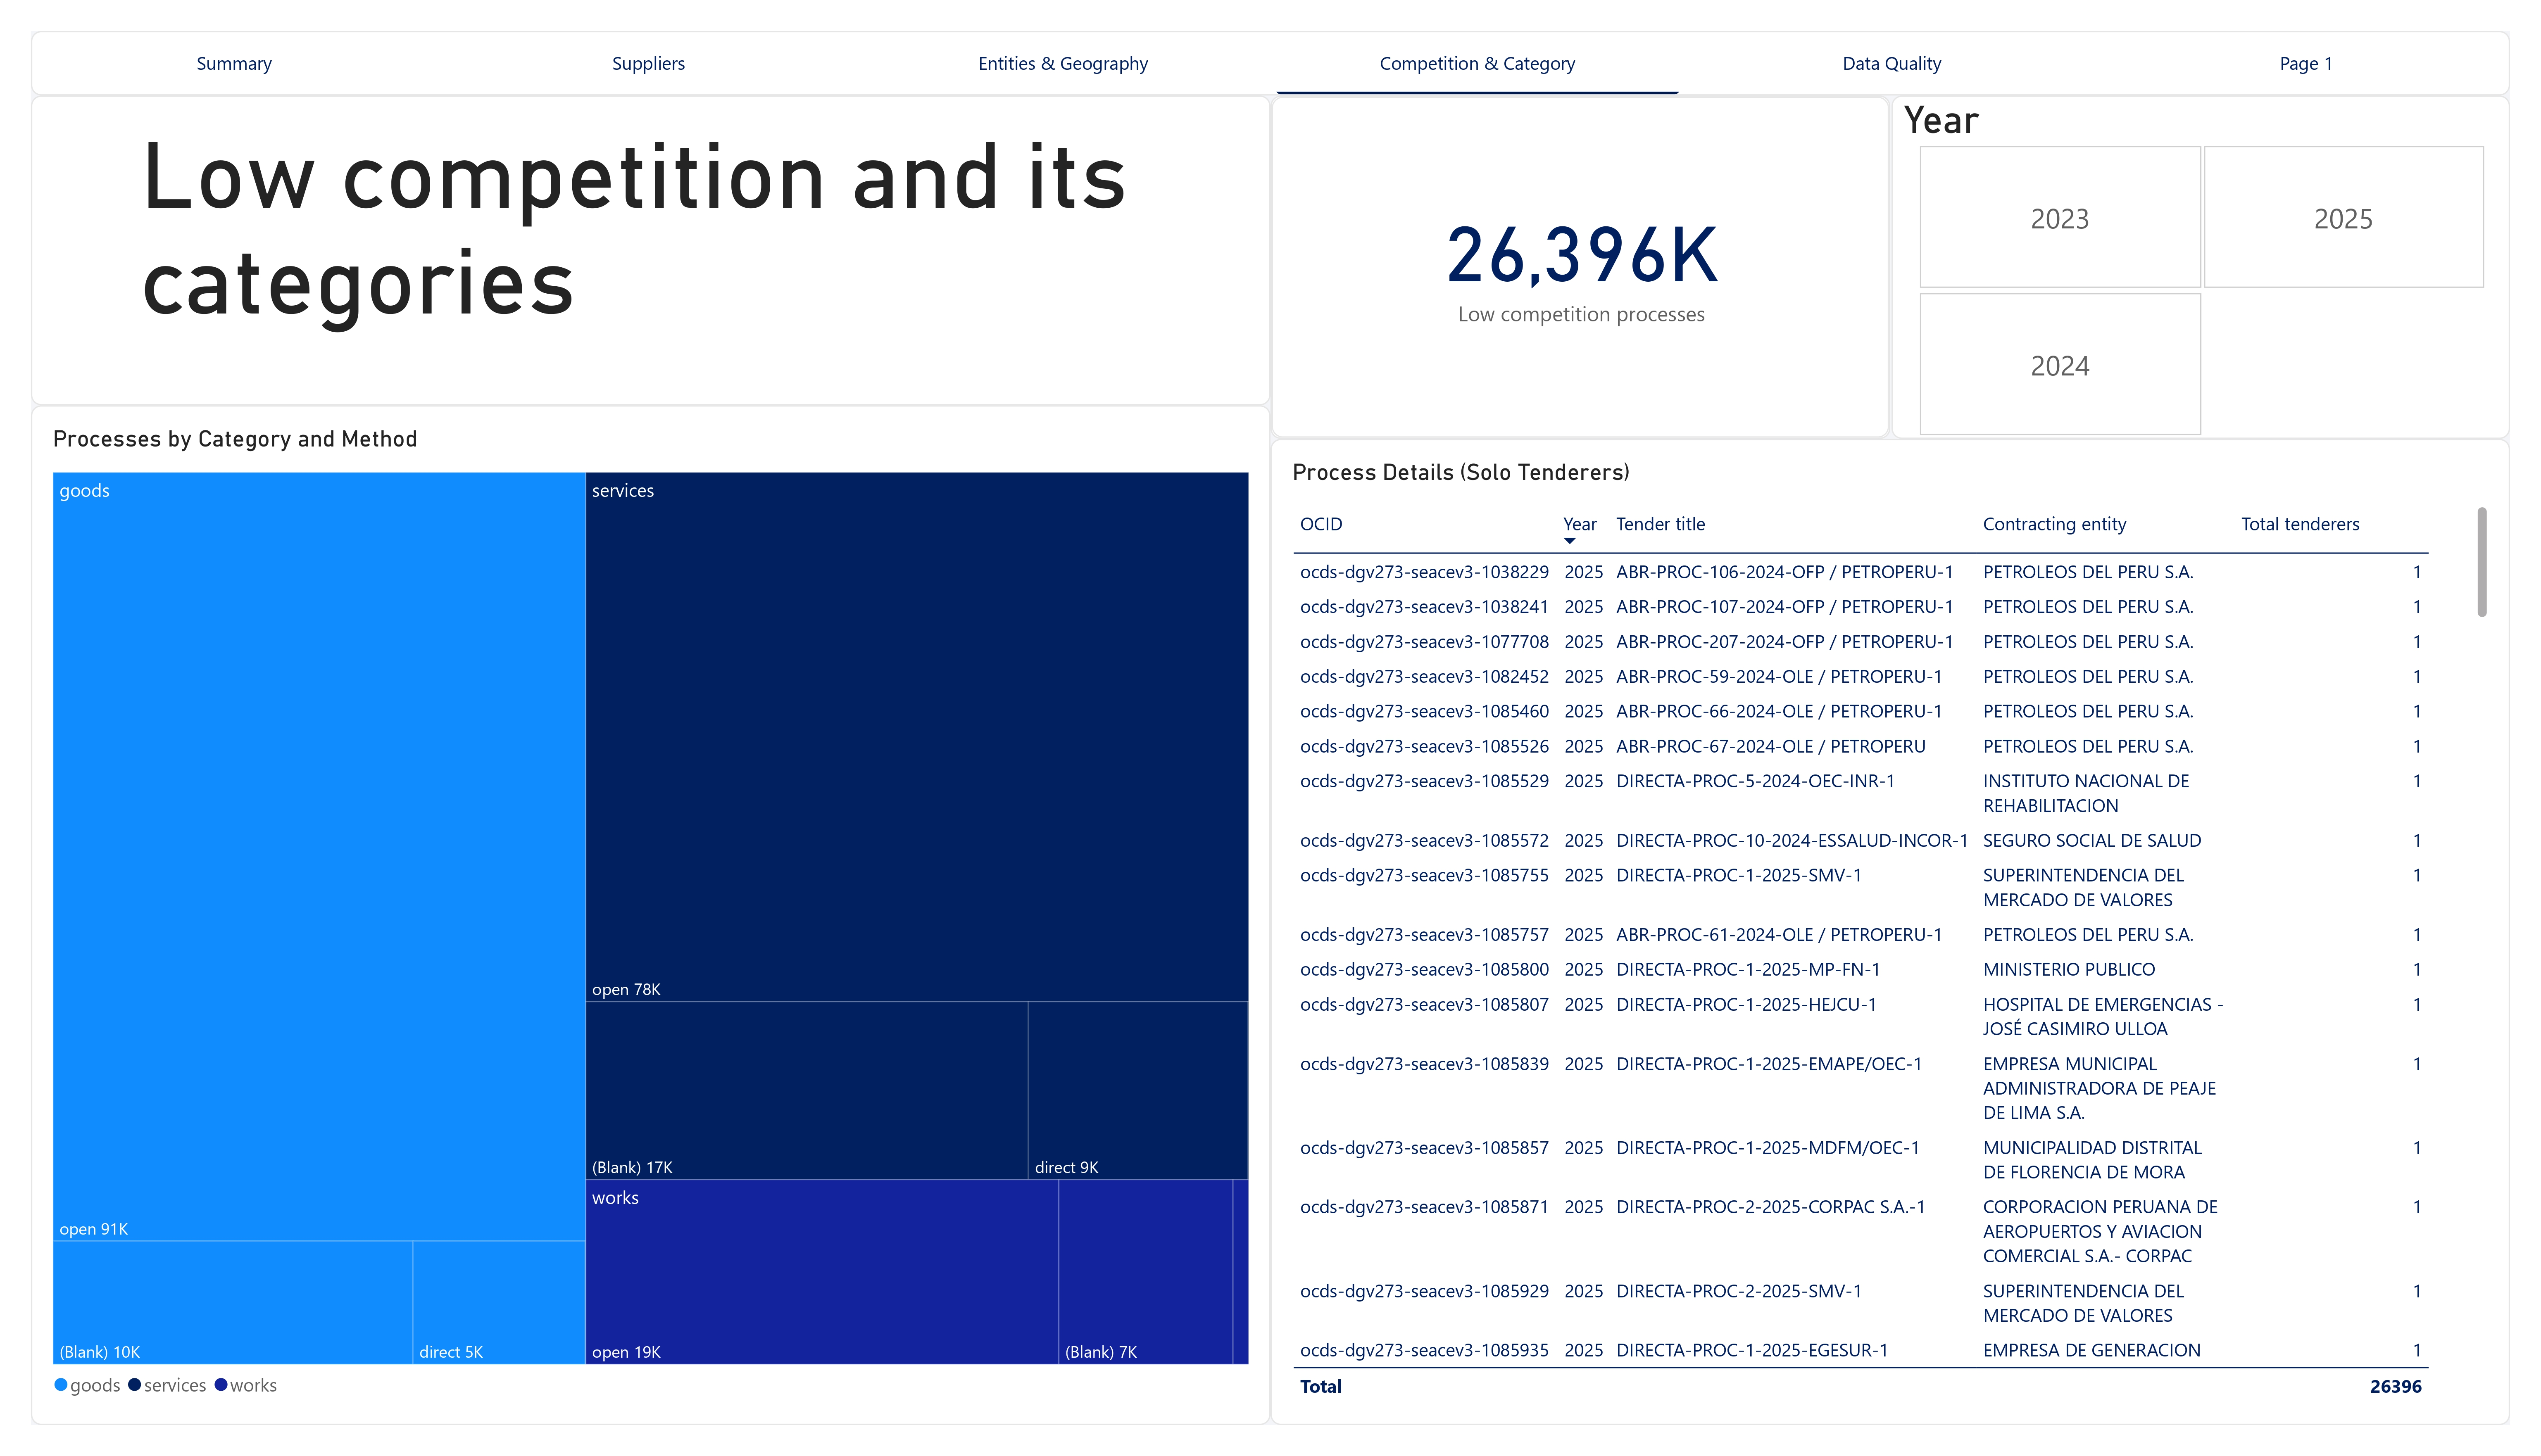

Layout of this report page (visuals, bound fields, positions):
{"tool":"powerbi","page":{"name":"Competition & Category","canvas":[1920,1080],"ordinal":3},"visuals":[{"type":"textbox","box":[0,50,960.1,239.7],"z":0},{"type":"slicer","fields":{"Values":["Dim_Year.Year"]},"box":[1440.9,50,479.4,266],"z":1000},{"type":"tableEx","title":"Process Details (Solo Tenderers)","fields":{"Values":["v_low_competition_processes.ocid","v_low_competition_processes.year","v_low_competition_processes.tender_title","v_low_competition_processes.procuring_entity_name","Sum(v_low_competition_processes.num_tenderers)"]},"box":[960,315.9,960,764.2],"z":2000},{"type":"cardVisual","title":"Avg Tenderers per Process","fields":{"Data":["CountNonNull(v_low_competition_processes.num_tenderers)"]},"box":[960.1,50,479.4,266],"z":3000},{"type":"treemap","title":"Processes by Category and Method","fields":{"Details":["v_category_method.procurement_method"],"Group":["v_category_method.procurement_category"],"Values":["Sum(v_category_method.processes)"]},"box":[0,289.8,960.1,790.2],"z":4000},{"type":"pageNavigator","box":[0,0,1920.3,50],"z":4001}]}

Visuals, with their boxes on the page's 1920x1080 design canvas (x1, y1, x2, y2). These are canvas units, not pixel positions in the 2541x1456 screenshot, which may show the page scaled, cropped or inside an application window:
textbox: {"left": 0, "top": 50, "right": 960, "bottom": 290}
slicer - Dim_Year.Year: {"left": 1441, "top": 50, "right": 1920, "bottom": 316}
"Process Details (Solo Tenderers)" tableEx: {"left": 960, "top": 316, "right": 1920, "bottom": 1080}
"Avg Tenderers per Process" cardVisual: {"left": 960, "top": 50, "right": 1440, "bottom": 316}
"Processes by Category and Method" treemap: {"left": 0, "top": 290, "right": 960, "bottom": 1080}
pageNavigator: {"left": 0, "top": 0, "right": 1920, "bottom": 50}
